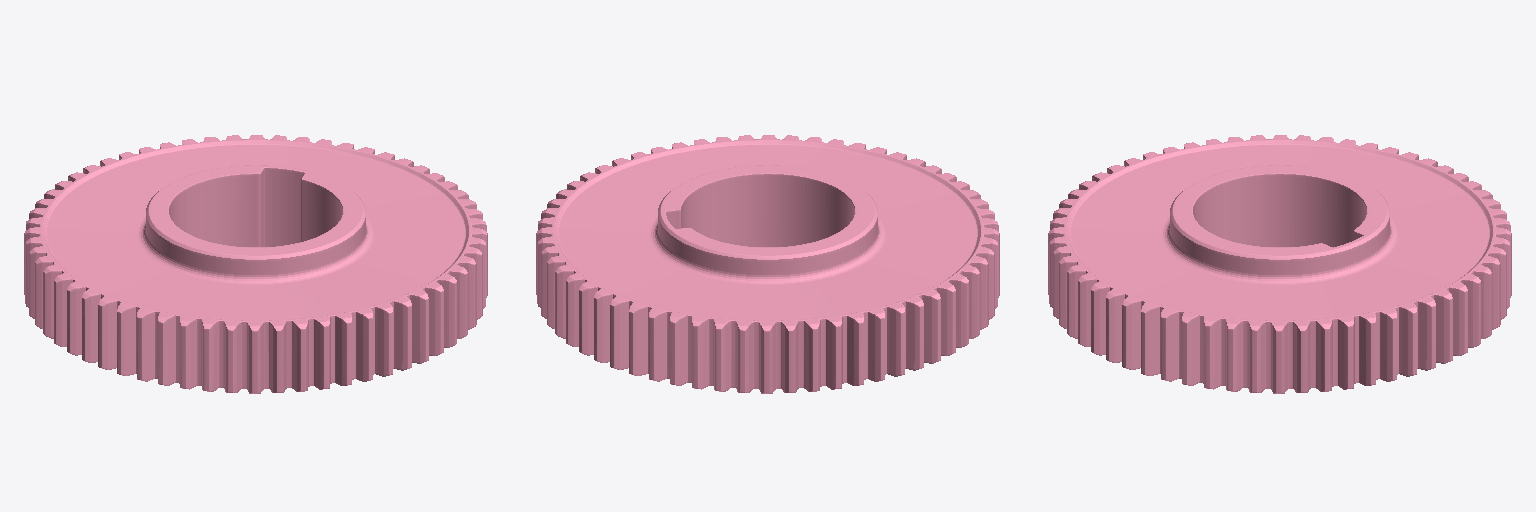
3 renders of one model, left to right at view 1: azimuth 30°, elevation 25°; view 2: azimuth 150°, elevation 25°; view 3: azimuth 270°, elevation 25°, orthographic.
Visible parts, largest first — view 1: Gear2; view 2: Gear2; view 3: Gear2.
Part boxes in pixels (x1,y1,x2,y2): Gear2: (24,135,487,393); Gear2: (536,135,999,393); Gear2: (1048,135,1511,393).
Size of the model in its own units: 18.14 by 3.93 by 18.14.
Materials: 1 (1 with a texture image).